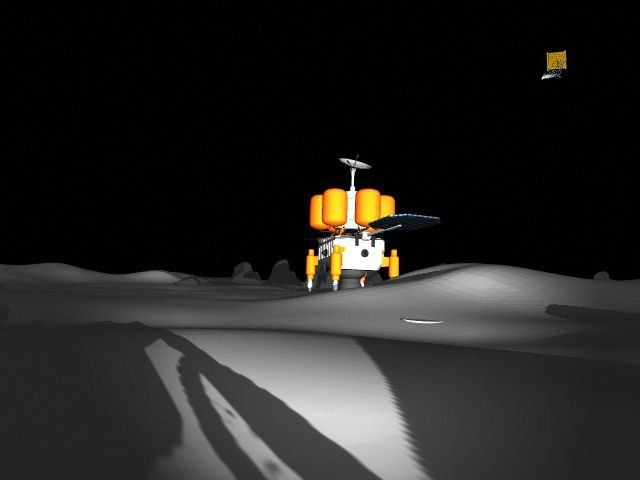homebase: (282, 153, 441, 299)
